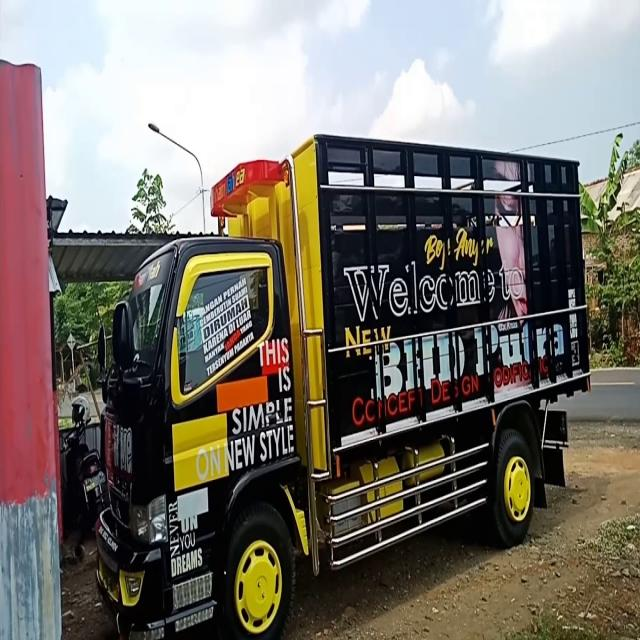truck: (84, 131, 592, 639)
